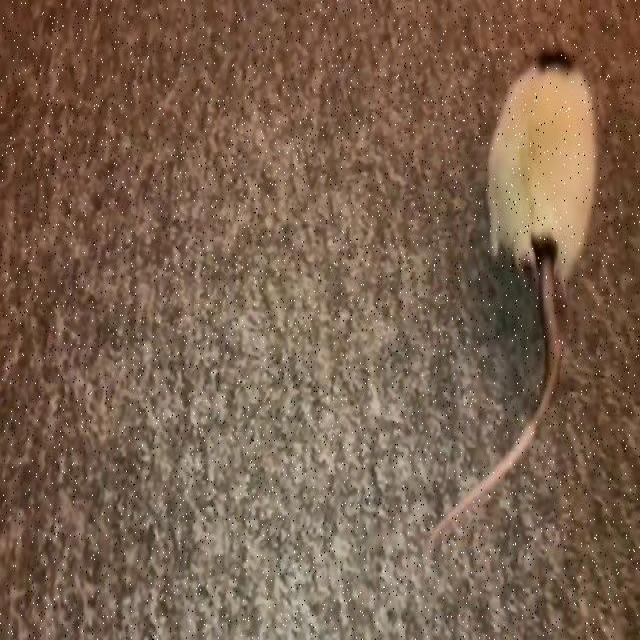rat: (484, 27, 604, 424)
